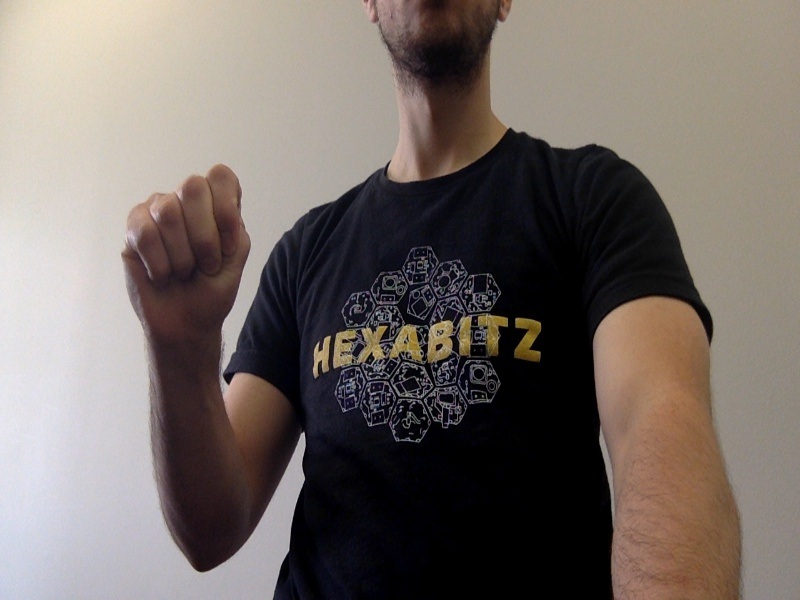0-hand: (121, 165, 248, 341)
